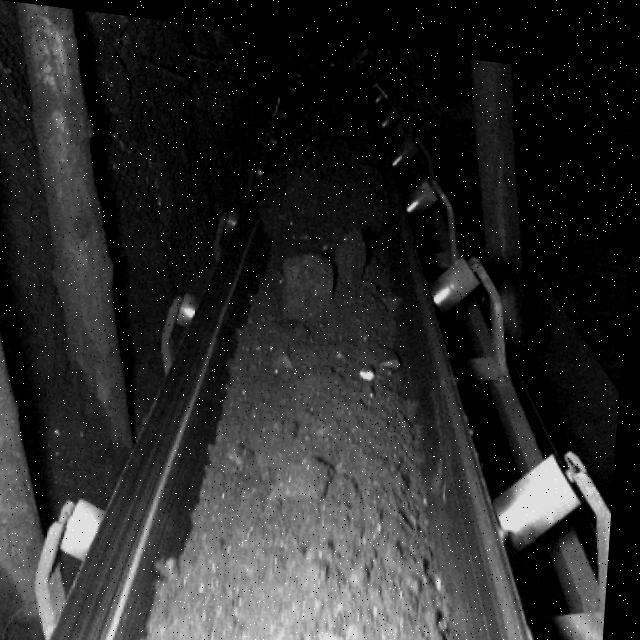large_sized_coal: (281, 244, 338, 315), (335, 218, 374, 278)
